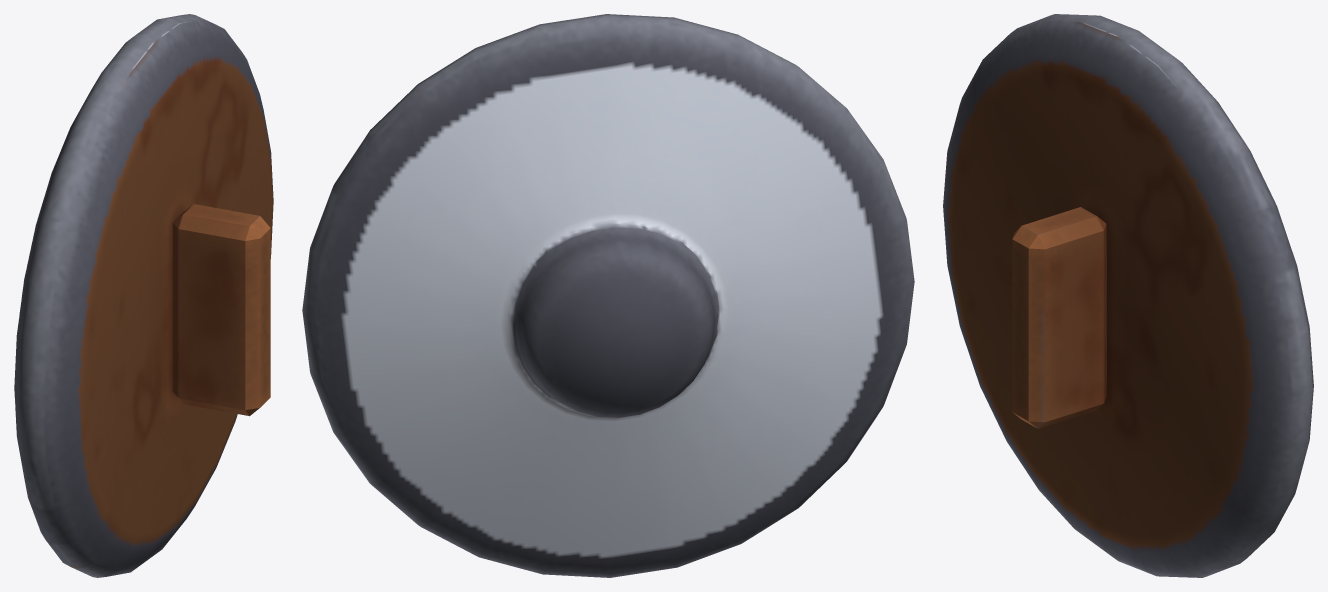
Rendered from shield.glb.
The picture shows the model from 3 angles, left to right: view 1: azimuth 30°, elevation 25°; view 2: azimuth 150°, elevation 25°; view 3: azimuth 270°, elevation 25°; orthographic projection. The views are drawn at different scales.
Parts seen in each view (by area): view 1: shield; view 2: shield; view 3: shield.
Part boxes in pixels (x1=…): shield: x1=14, y1=14, x2=273, y2=577; shield: x1=302, y1=14, x2=914, y2=577; shield: x1=943, y1=14, x2=1313, y2=577.
Size of the model in its own units: 0.2455 by 0.3 by 0.1906.
3 materials, 3 textured.
